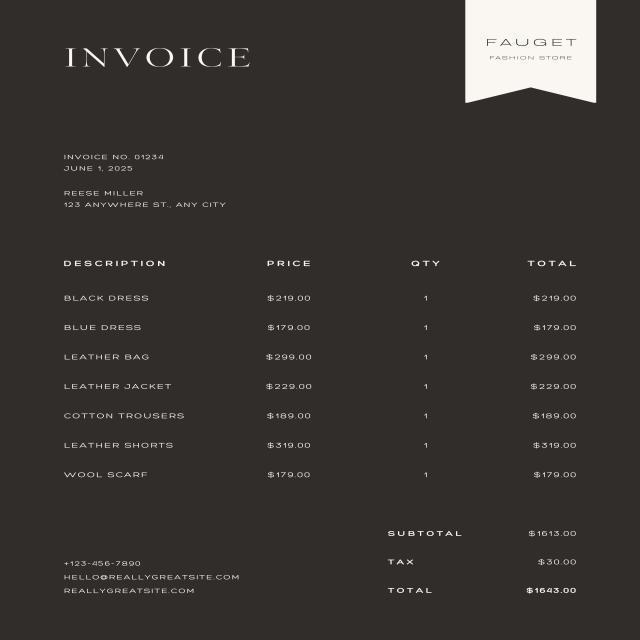ROI: (47, 246, 603, 492), (375, 522, 589, 611), (49, 540, 244, 611), (53, 146, 246, 217), (55, 39, 264, 73), (482, 29, 596, 79)
